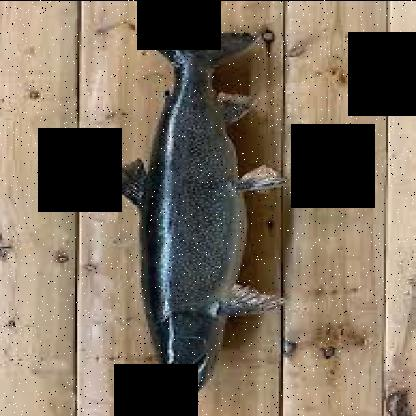fish: (104, 20, 278, 394)
